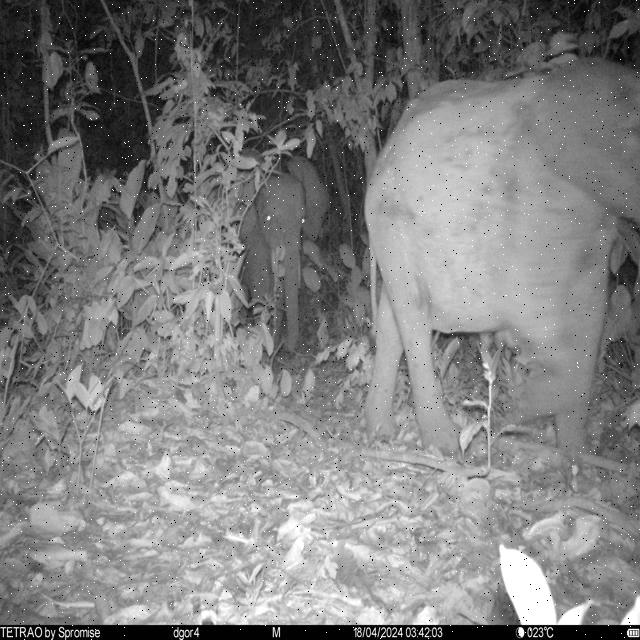ear: (530, 55, 638, 224), (287, 154, 331, 244)
elephant: (362, 56, 640, 470), (232, 154, 332, 358)
